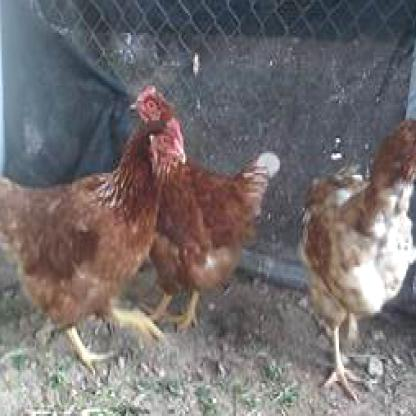chicken: (0, 118, 187, 370), (130, 87, 284, 330), (306, 120, 414, 410)
